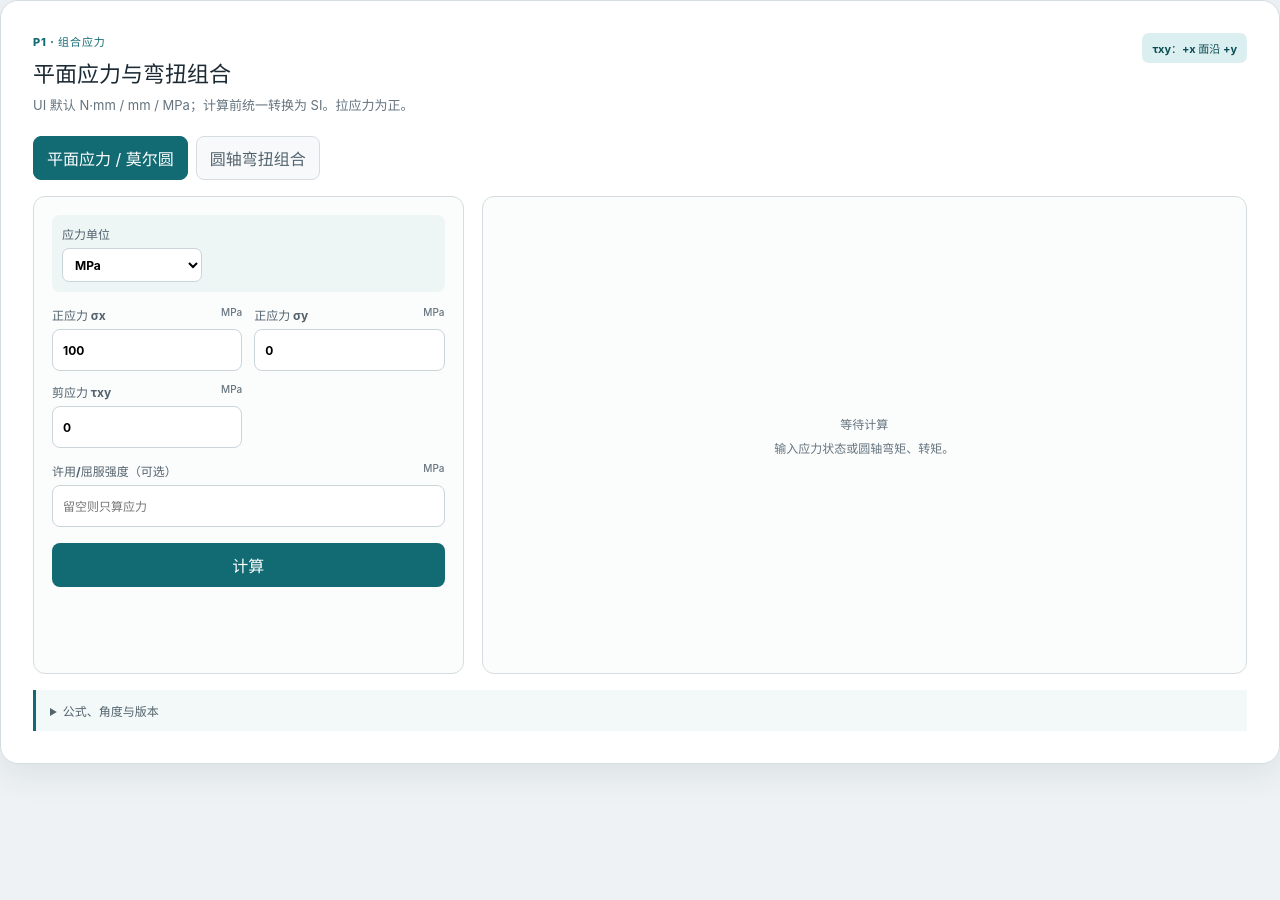
StressCalculator › accepts arithmetic expressions in stress fields
The width and height of the screenshot is (1280, 900).
Step 1. Replace the text in the field labelled "正应力 σx MPa" with "200*(1-50%)" → point(147, 350), box [52, 329, 242, 371]
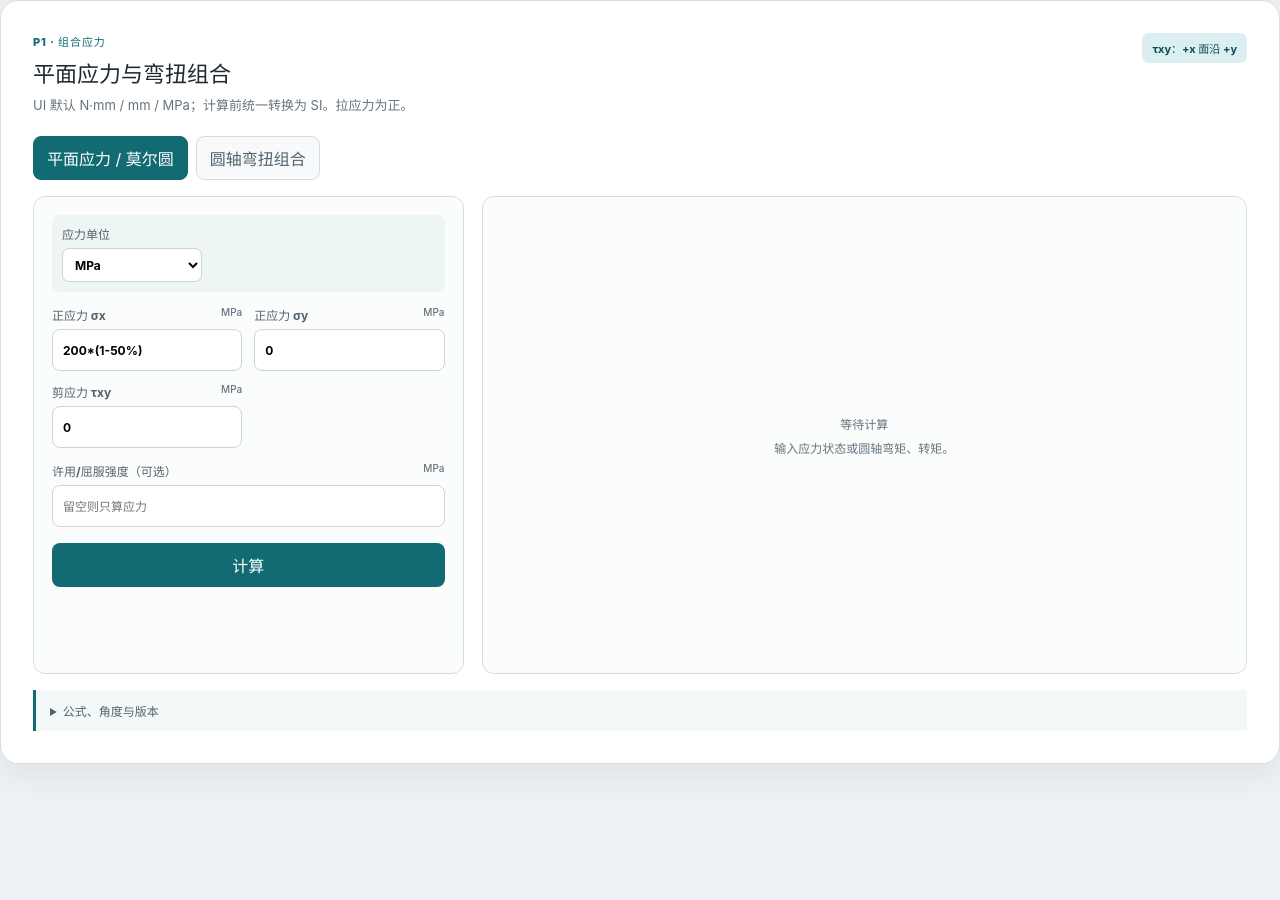
Step 2. Replace the text in the field labelled "正应力 σy MPa" with "20-20" → point(349, 350), box [254, 329, 445, 371]
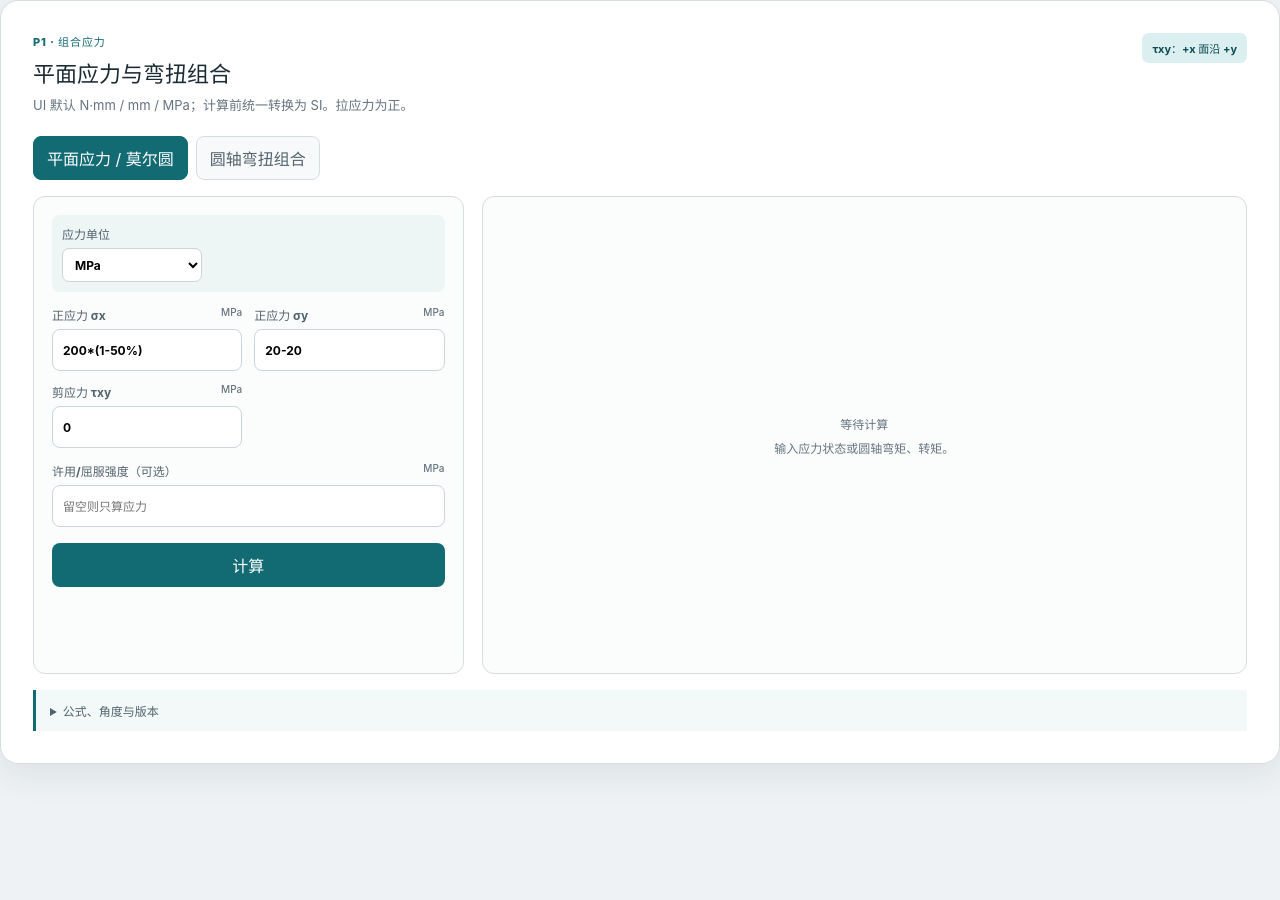
Step 3. Replace the text in the field labelled "剪应力 τxy MPa" with "5*0" → point(147, 427), box [52, 406, 242, 448]
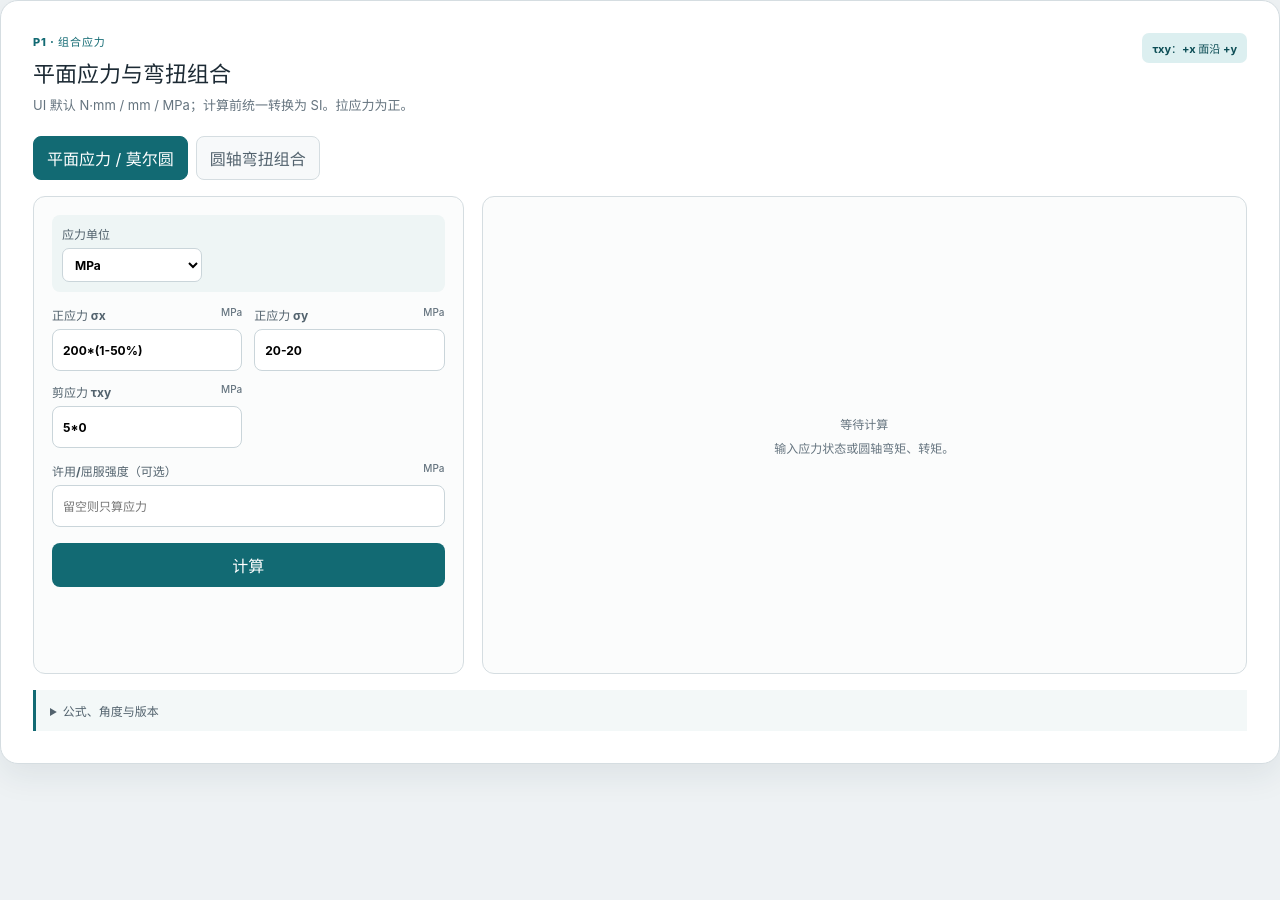
Step 4. Click the button with class "calculate" → point(248, 565), box [52, 543, 444, 587]
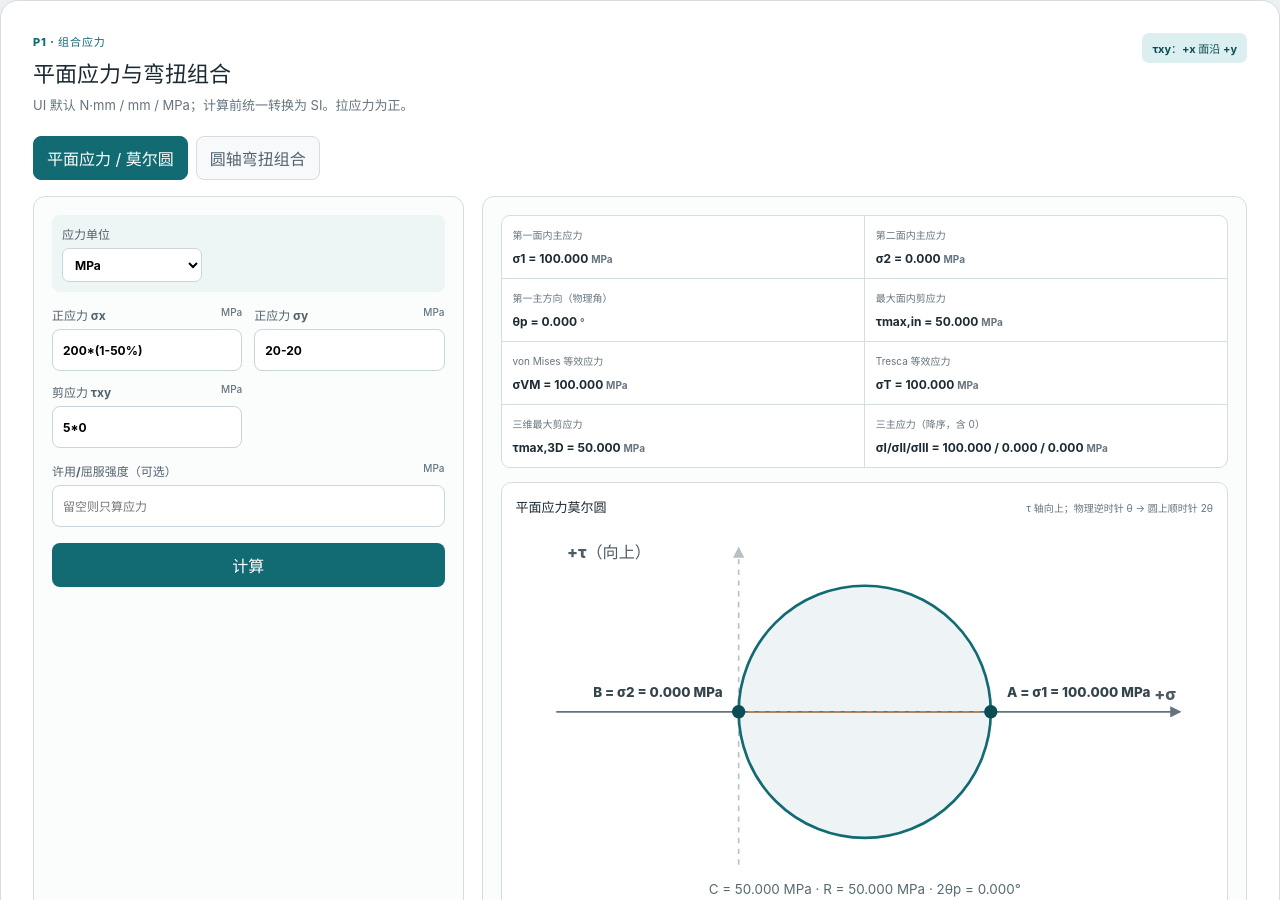
Expected: the text "σ1 = 100.000 MPa" is shown, [512, 251, 613, 266]
